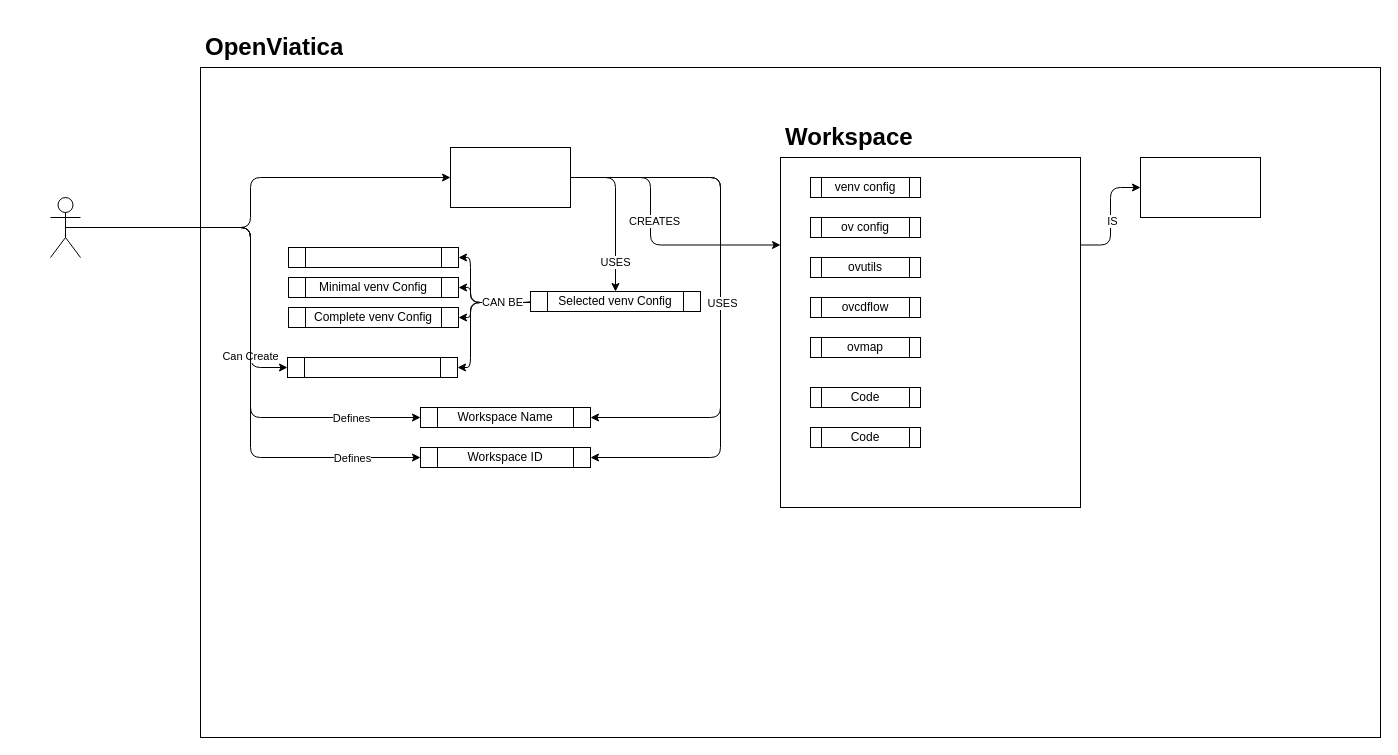
Image size: 1398x755. Some labels were removed from this diagram. Each missing label, with the box of its shape:
Added venv Config: (286, 356, 458, 378)
Empty venv Config: (288, 246, 458, 268)
Folder: (1140, 156, 1260, 218)
Workspace Admin: (50, 196, 80, 258)
Workspace Initializer: (450, 146, 570, 208)
